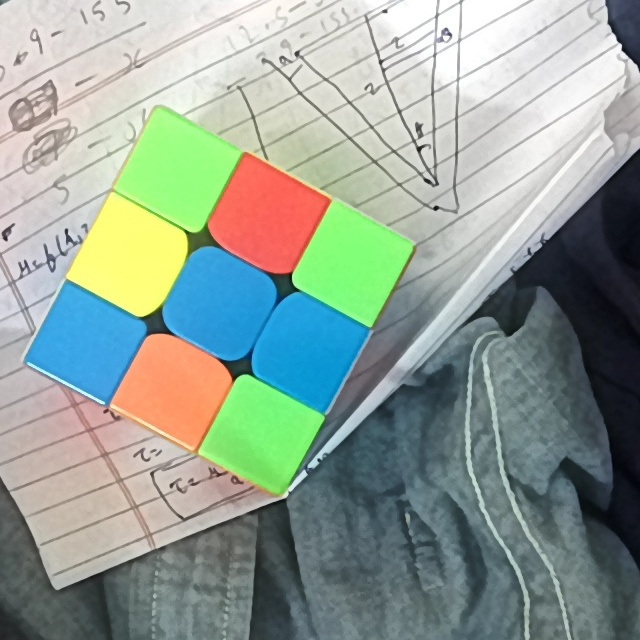tile: (183, 263, 256, 336), (139, 139, 214, 206), (223, 404, 294, 473), (134, 358, 210, 420), (54, 306, 122, 374), (320, 229, 390, 295), (271, 319, 339, 386), (233, 182, 302, 247), (97, 224, 165, 288)
